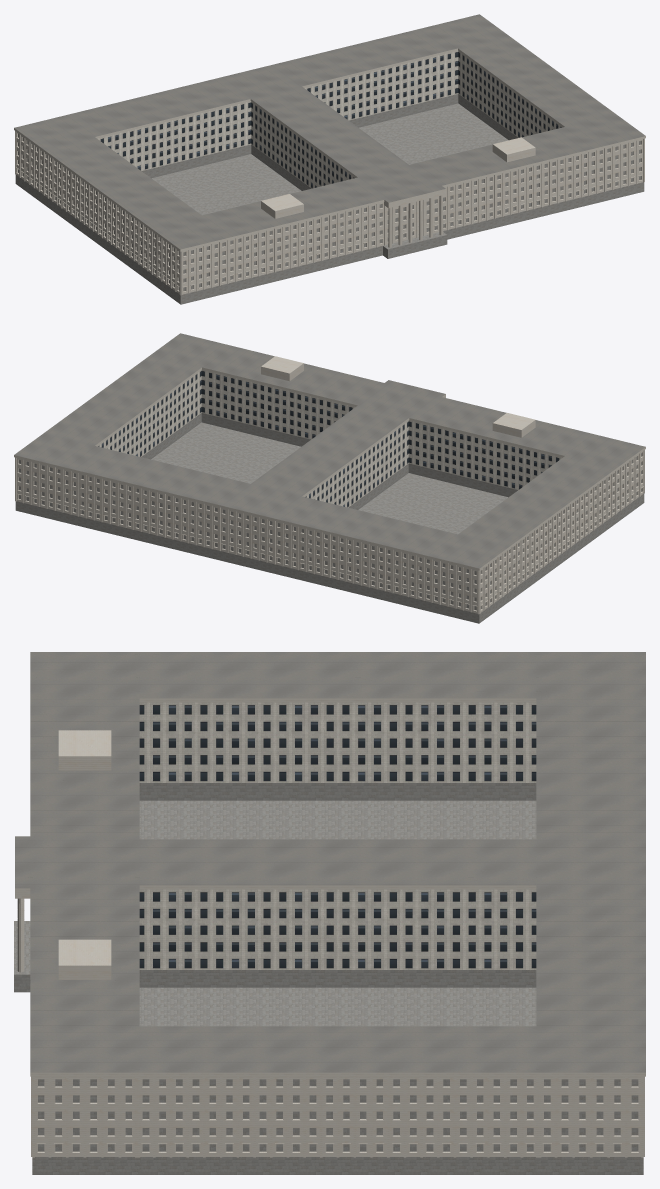
File: rayburn_house.glb
3 renders of one model, top to bottom at view 1: azimuth 30°, elevation 25°; view 2: azimuth 150°, elevation 25°; view 3: azimuth 270°, elevation 25°, orthographic. The views are drawn at different scales.
Parts seen in each view (by area): view 1: rayburn_house; view 2: rayburn_house; view 3: rayburn_house.
Part boxes in pixels (x1,y1,x2,y2): rayburn_house: (14,14,645,304); rayburn_house: (14,333,645,623); rayburn_house: (14,652,645,1174).
Size of the model in its own units: 227 by 29.6 by 144.
Materials: 4 (4 with a texture image).
